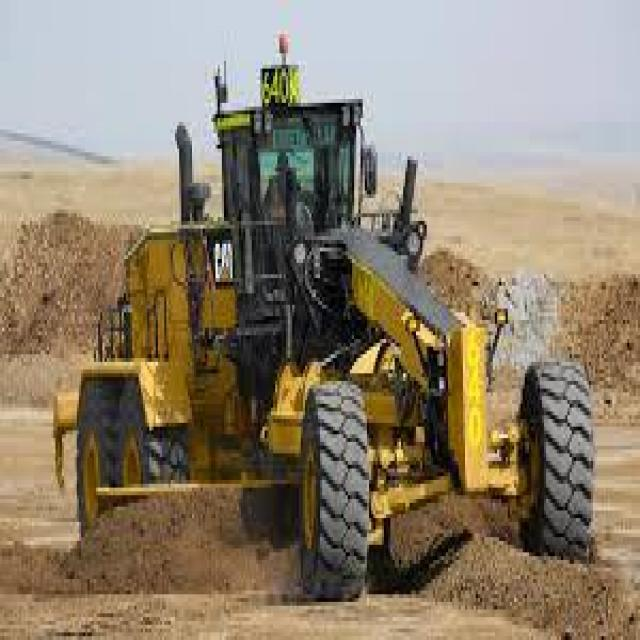Grader: (43, 38, 602, 602)
